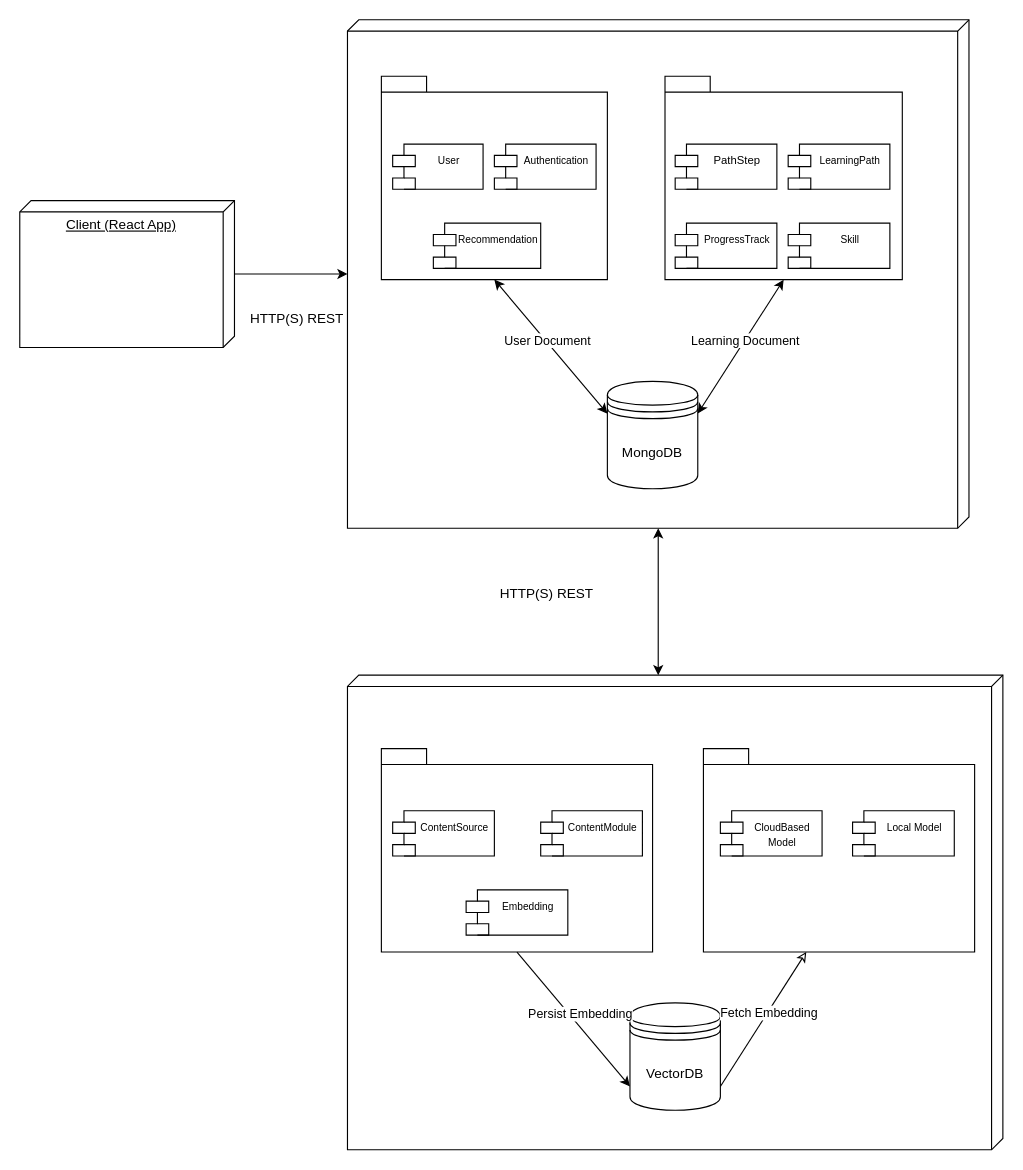
This 1023x1170 diagram has some shape labels left out. The box of each missing label's shape, as (x1, y1, x2, y2) in pixels:
GenAI (Python): (346, 674, 1003, 1150)
Knowledge Service: (380, 747, 653, 952)
Learning Service: (664, 75, 902, 280)
LLM Service: (702, 747, 975, 952)
Server (Spring Boot): (346, 19, 969, 528)
User & Authentication Service: (380, 75, 607, 280)
